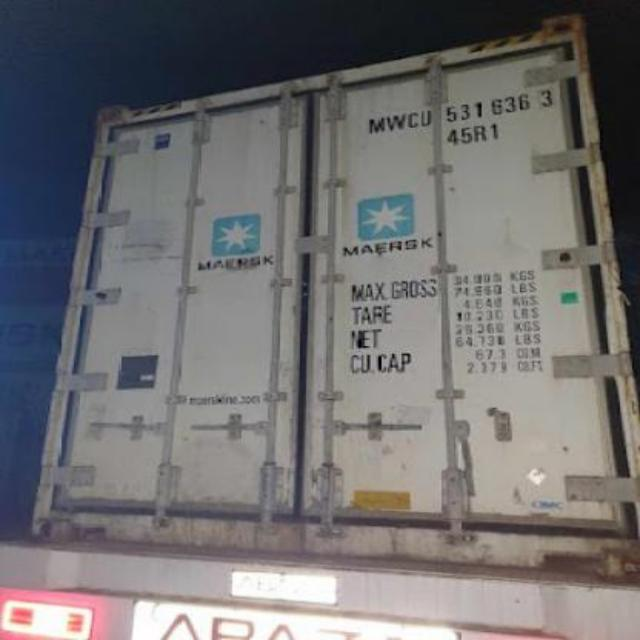1: (471, 99, 484, 117)
3: (502, 94, 520, 114), (540, 88, 556, 108), (460, 103, 470, 121)
5: (448, 105, 458, 121)
6: (516, 93, 534, 113), (490, 97, 506, 115)
C: (404, 109, 418, 129)
M: (368, 115, 386, 135)
U: (418, 108, 432, 128)
W: (380, 111, 410, 131)
